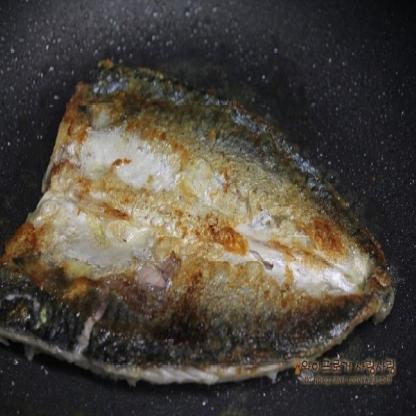Peixe: (28, 79, 404, 373)
